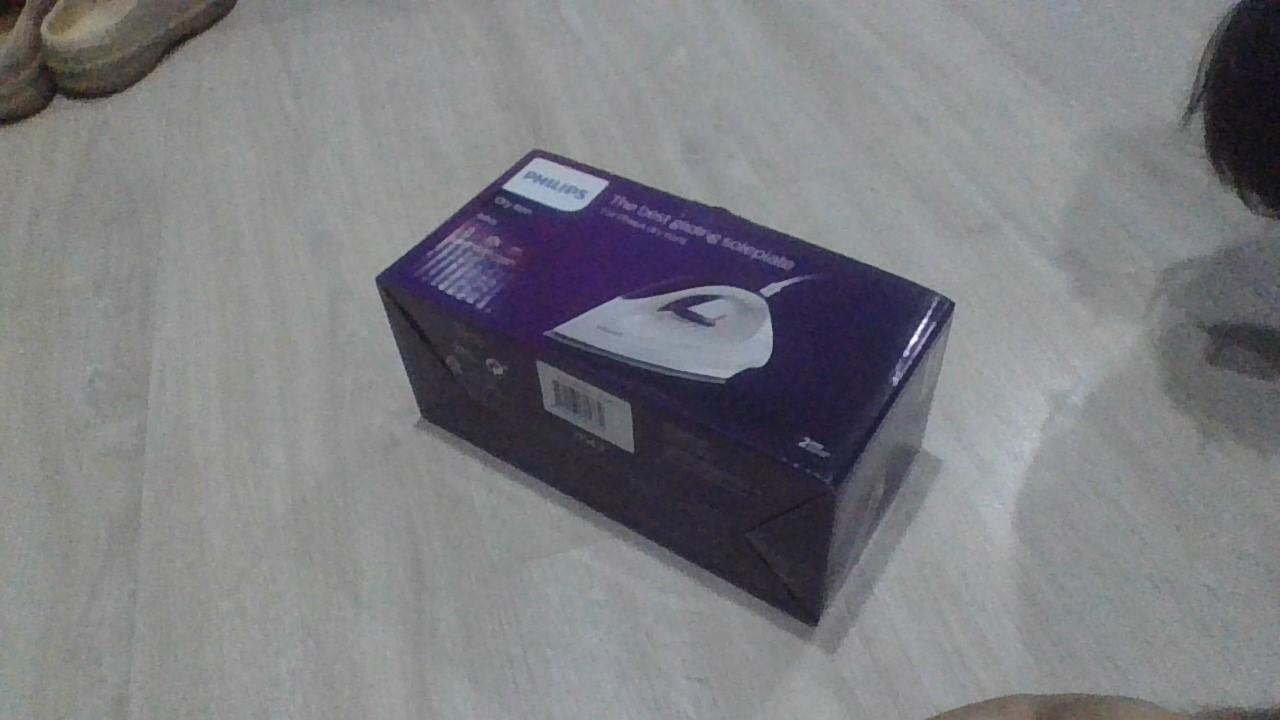IRON: (371, 144, 959, 635)
